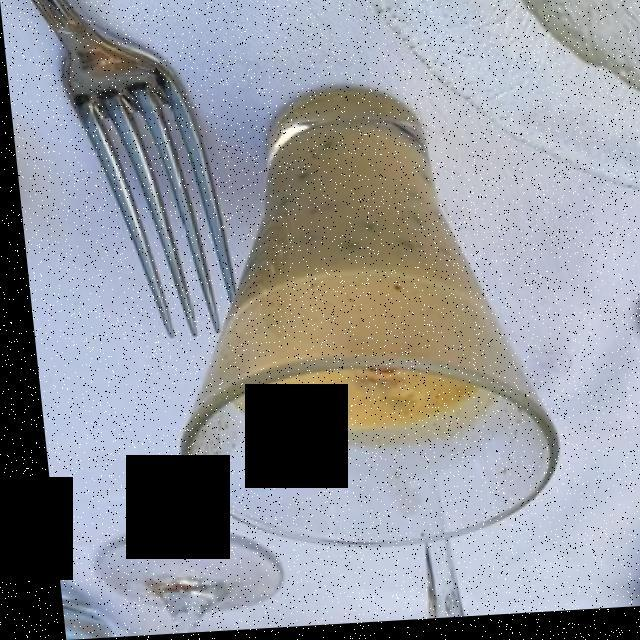curry-vegetarian: (212, 130, 471, 434)
